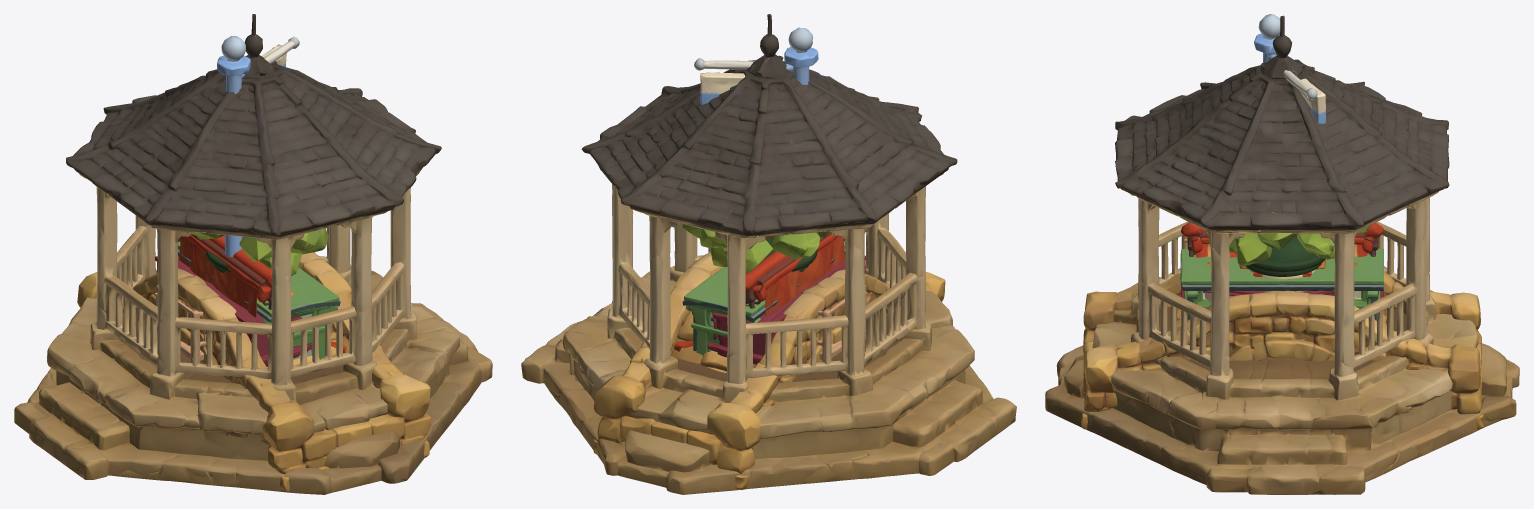
File: ville.glb
The picture shows the model from 3 angles, left to right: view 1: azimuth 30°, elevation 25°; view 2: azimuth 150°, elevation 25°; view 3: azimuth 270°, elevation 25°; orthographic projection.
Visible parts, largest first — view 1: kiosque-musique, pont-pierre, store-banne, devanture, mat-drapeau, arbre-rue, devanture-angle, toboggan; view 2: kiosque-musique, pont-pierre, store-banne, mat-drapeau, arbre-rue, devanture, devanture-angle, toboggan, abribus; view 3: kiosque-musique, pont-pierre, devanture, arbre-rue, colonne-affiche, mat-drapeau, store-banne, abribus.
Boxes of the visible parts, x1,y1,x2,y2 form: kiosque-musique: (14,14,492,494); pont-pierre: (77,252,431,491); store-banne: (178,234,346,353); devanture: (178,241,339,359); mat-drapeau: (217,36,299,256); arbre-rue: (191,228,328,275); devanture-angle: (155,256,312,366); toboggan: (155,285,206,363); kiosque-musique: (521,14,1016,494); pont-pierre: (593,252,945,489); store-banne: (674,231,845,351); mat-drapeau: (694,27,818,104); arbre-rue: (682,224,830,273); devanture: (684,241,845,355); devanture-angle: (707,255,866,364); toboggan: (816,285,867,361); abribus: (682,248,845,351); kiosque-musique: (1045,15,1519,494); pont-pierre: (1081,272,1483,429); devanture: (1180,248,1383,320); arbre-rue: (1209,225,1370,266); colonne-affiche: (1235,235,1325,279); mat-drapeau: (1254,14,1325,123); store-banne: (1181,222,1383,257); abribus: (1180,253,1383,320).
Size of the model in its own units: 7 by 6.17 by 7.
44 materials, 44 textured.
